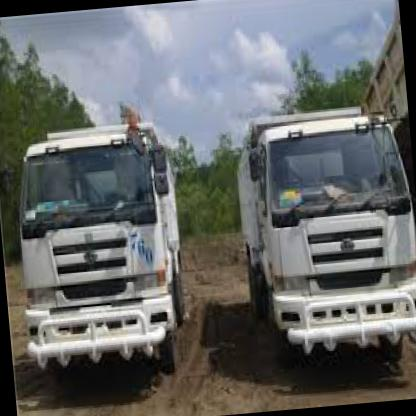truck: (8, 128, 184, 396), (253, 112, 416, 382)
